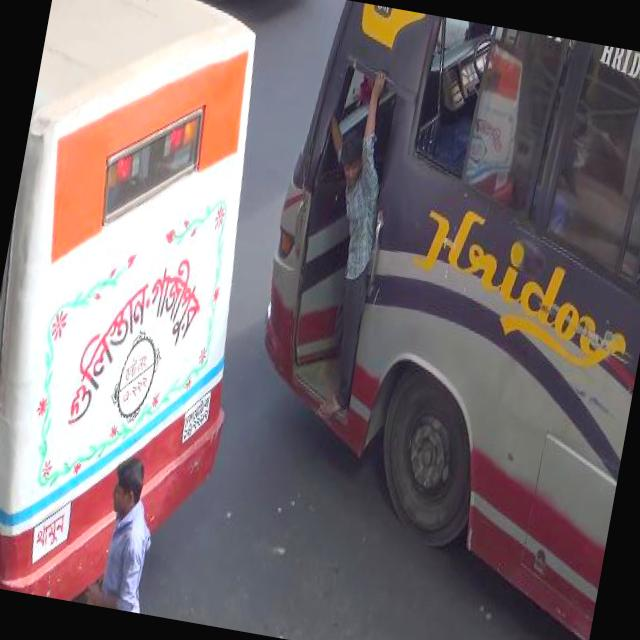bus: (215, 0, 640, 640), (0, 0, 301, 620)
